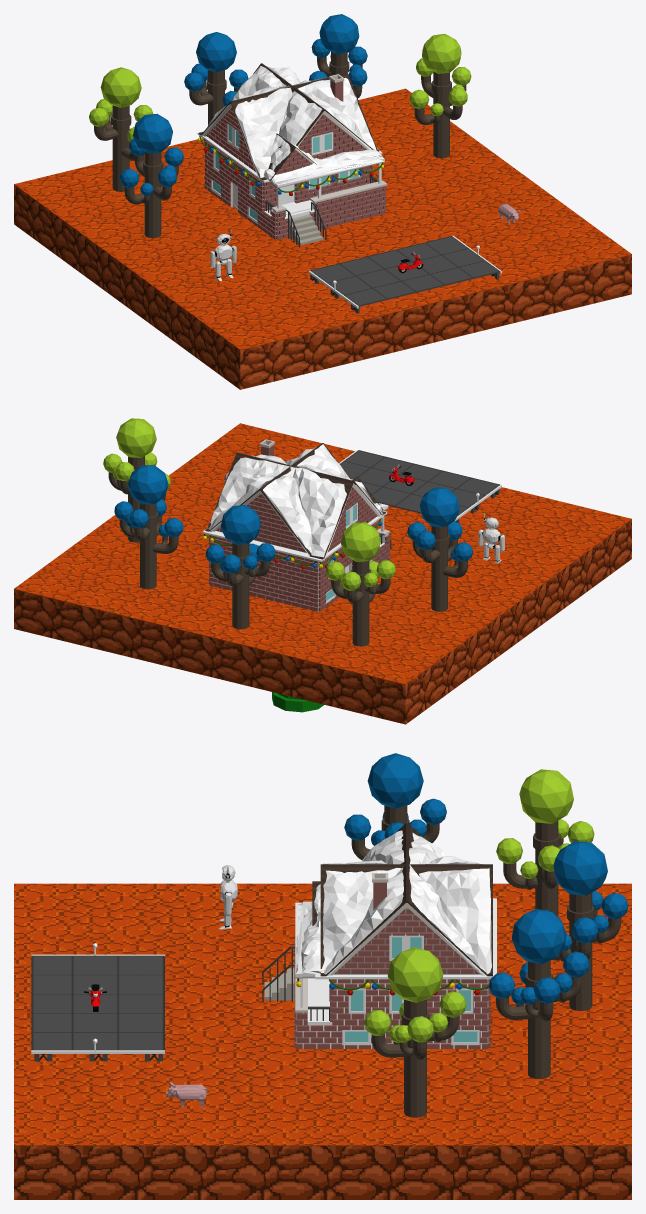
3 renders of one model, top to bottom at view 1: azimuth 30°, elevation 25°; view 2: azimuth 150°, elevation 25°; view 3: azimuth 270°, elevation 25°, orthographic. The views are drawn at different scales.
Visible parts, largest first — view 1: Cube.001, Cube.1419, OBJRANDOM_PLATZEEBOT; view 2: Cube.001, Cube.1419, OBJRANDOM_PLATZEEBOT, UNDERGROUND_PIPES; view 3: Cube.001, Cube.1419, OBJRANDOM_PLATZEEBOT, ANIMAL_CERDO.
Part boxes in pixels (x1,y1,x2,y2): Cube.001: (14, 14, 631, 389); Cube.1419: (197, 63, 387, 246); OBJRANDOM_PLATZEEBOT: (210, 229, 236, 281); Cube.001: (14, 418, 631, 724); Cube.1419: (202, 439, 391, 611); OBJRANDOM_PLATZEEBOT: (478, 513, 504, 563); UNDERGROUND_PIPES: (272, 692, 324, 712); Cube.001: (14, 753, 631, 1199); Cube.1419: (262, 823, 497, 1048); OBJRANDOM_PLATZEEBOT: (218, 865, 237, 929); ANIMAL_CERDO: (165, 1082, 208, 1107).
Bounding box in the file's own units: 4000 × 2247 × 4000.
39 materials, 4 textured.
